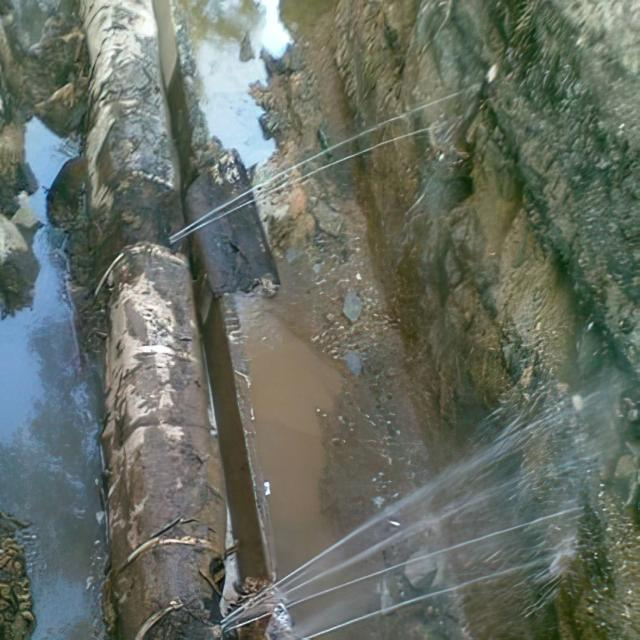leak: (221, 406, 584, 638), (169, 84, 480, 244)
